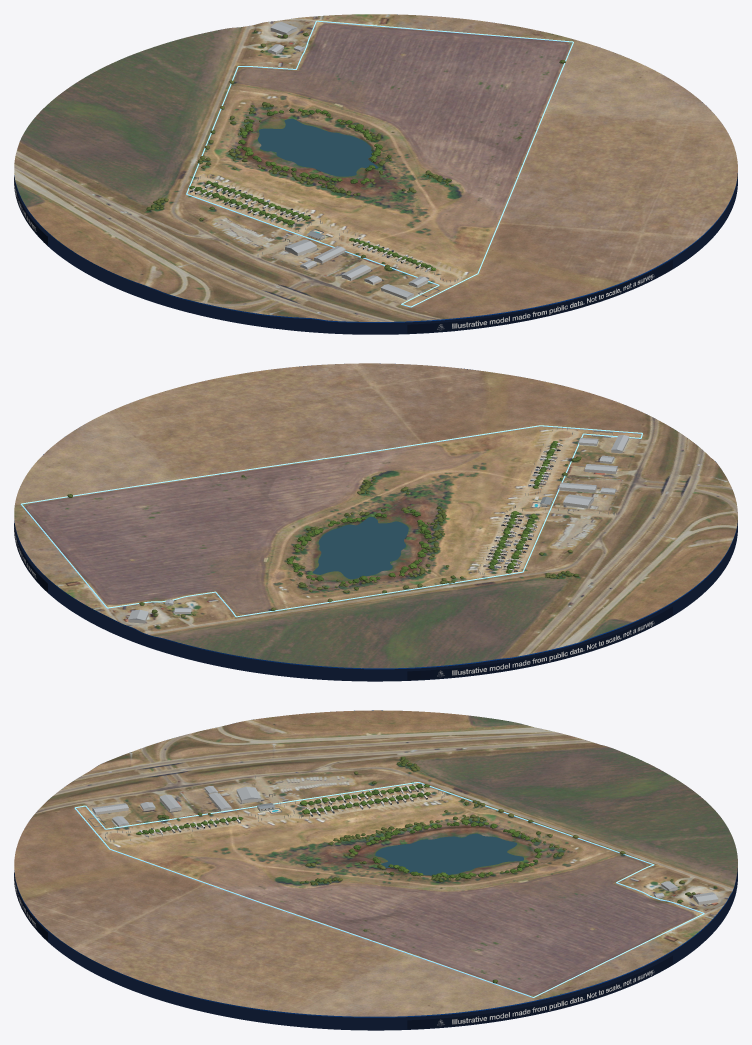
3 renders of one model, top to bottom at view 1: azimuth 30°, elevation 25°; view 2: azimuth 150°, elevation 25°; view 3: azimuth 270°, elevation 25°, orthographic.
Parts seen in each view (by area): view 1: ground_m, plinth_base, water_lake, plinth_print, border_border, town_shed_roof, plinth_band, trees_brush, oaks_oak_leaf, trees_brush2, oaks_oak_leaf3, oaks_oak_leaf2 (+2 smaller); view 2: ground_m, plinth_base, water_lake, plinth_print, border_border, town_shed_roof, plinth_band, trees_brush, trees_brush2, oaks_oak_leaf, oaks_oak_leaf3, pads_pad (+2 smaller); view 3: ground_m, plinth_base, water_lake, plinth_print, border_border, town_shed_roof, plinth_band, trees_brush, oaks_oak_leaf, trees_brush2, oaks_oak_leaf3, oaks_oak_leaf2 (+2 smaller).
Part boxes in pixels (bbox=[...]): ground_m: bbox=[14, 14, 737, 321]; plinth_base: bbox=[14, 176, 737, 334]; water_lake: bbox=[257, 118, 378, 176]; plinth_print: bbox=[14, 177, 672, 333]; border_border: bbox=[186, 20, 573, 307]; town_shed_roof: bbox=[268, 22, 428, 297]; plinth_band: bbox=[14, 14, 737, 322]; trees_brush: bbox=[146, 30, 565, 270]; oaks_oak_leaf: bbox=[189, 109, 426, 266]; trees_brush2: bbox=[151, 43, 447, 220]; oaks_oak_leaf3: bbox=[200, 108, 436, 270]; oaks_oak_leaf2: bbox=[194, 108, 432, 268]; ground_m: bbox=[14, 363, 737, 668]; plinth_base: bbox=[14, 522, 737, 681]; water_lake: bbox=[312, 517, 408, 579]; plinth_print: bbox=[14, 523, 672, 680]; border_border: bbox=[20, 425, 642, 617]; town_shed_roof: bbox=[128, 435, 629, 620]; plinth_band: bbox=[14, 363, 737, 669]; trees_brush: bbox=[67, 456, 581, 627]; trees_brush2: bbox=[180, 481, 573, 617]; oaks_oak_leaf: bbox=[286, 445, 556, 583]; oaks_oak_leaf3: bbox=[287, 441, 558, 583]; pads_pad: bbox=[483, 444, 563, 572]; ground_m: bbox=[14, 710, 737, 1016]; plinth_base: bbox=[14, 872, 737, 1030]; water_lake: bbox=[375, 833, 523, 875]; plinth_print: bbox=[14, 872, 672, 1029]; border_border: bbox=[74, 782, 704, 997]; town_shed_roof: bbox=[92, 786, 718, 901]; plinth_band: bbox=[14, 710, 737, 1017]; trees_brush: bbox=[157, 756, 716, 983]; oaks_oak_leaf: bbox=[148, 784, 540, 878]; trees_brush2: bbox=[305, 759, 684, 885]; oaks_oak_leaf3: bbox=[136, 785, 542, 877]; oaks_oak_leaf2: bbox=[142, 784, 541, 878].
Bounding box in the file's own units: 0.6 × 0.0163 × 0.6002.
73 materials, 6 textured.
